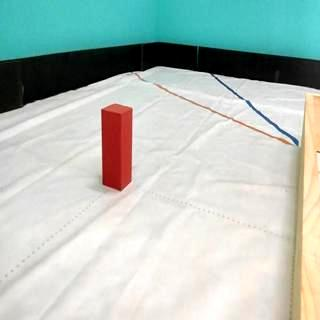redbox: (100, 102, 134, 190)
